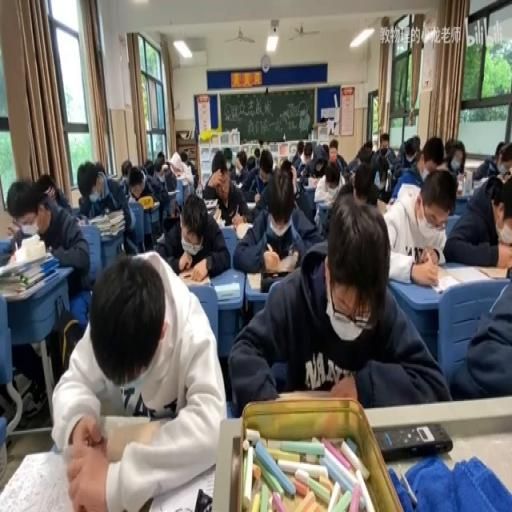calculator: (0, 449, 77, 512), (150, 465, 214, 512), (444, 263, 490, 286), (178, 267, 210, 286), (213, 282, 241, 300), (234, 219, 252, 240), (246, 270, 262, 289), (0, 236, 13, 256), (318, 194, 334, 208), (203, 196, 218, 209), (304, 175, 318, 188), (472, 176, 486, 188), (212, 206, 222, 222), (376, 198, 386, 214), (339, 168, 350, 182), (75, 214, 89, 224), (148, 199, 158, 209), (232, 179, 242, 189), (166, 189, 178, 196), (245, 201, 255, 209)
paper: (226, 193, 446, 414), (52, 250, 225, 509), (4, 175, 90, 289), (443, 165, 512, 267), (80, 158, 138, 257), (251, 151, 303, 223), (200, 150, 248, 224), (135, 156, 173, 232), (342, 160, 381, 208), (313, 160, 344, 204), (470, 140, 502, 180), (415, 135, 443, 179), (395, 135, 418, 169), (37, 170, 59, 204), (290, 141, 306, 172), (184, 154, 198, 189), (357, 142, 373, 164), (152, 151, 166, 175), (442, 138, 454, 165), (374, 165, 388, 186), (496, 154, 510, 174), (163, 171, 176, 192), (384, 145, 397, 166), (234, 149, 246, 171), (328, 138, 338, 164), (278, 160, 293, 176), (128, 179, 142, 196), (121, 159, 132, 179), (222, 146, 232, 166), (142, 158, 153, 175), (379, 135, 389, 151), (94, 161, 105, 175), (322, 142, 330, 158), (246, 155, 254, 169), (253, 145, 259, 161), (180, 149, 186, 162)
person: (374, 422, 451, 461), (259, 268, 292, 292)
